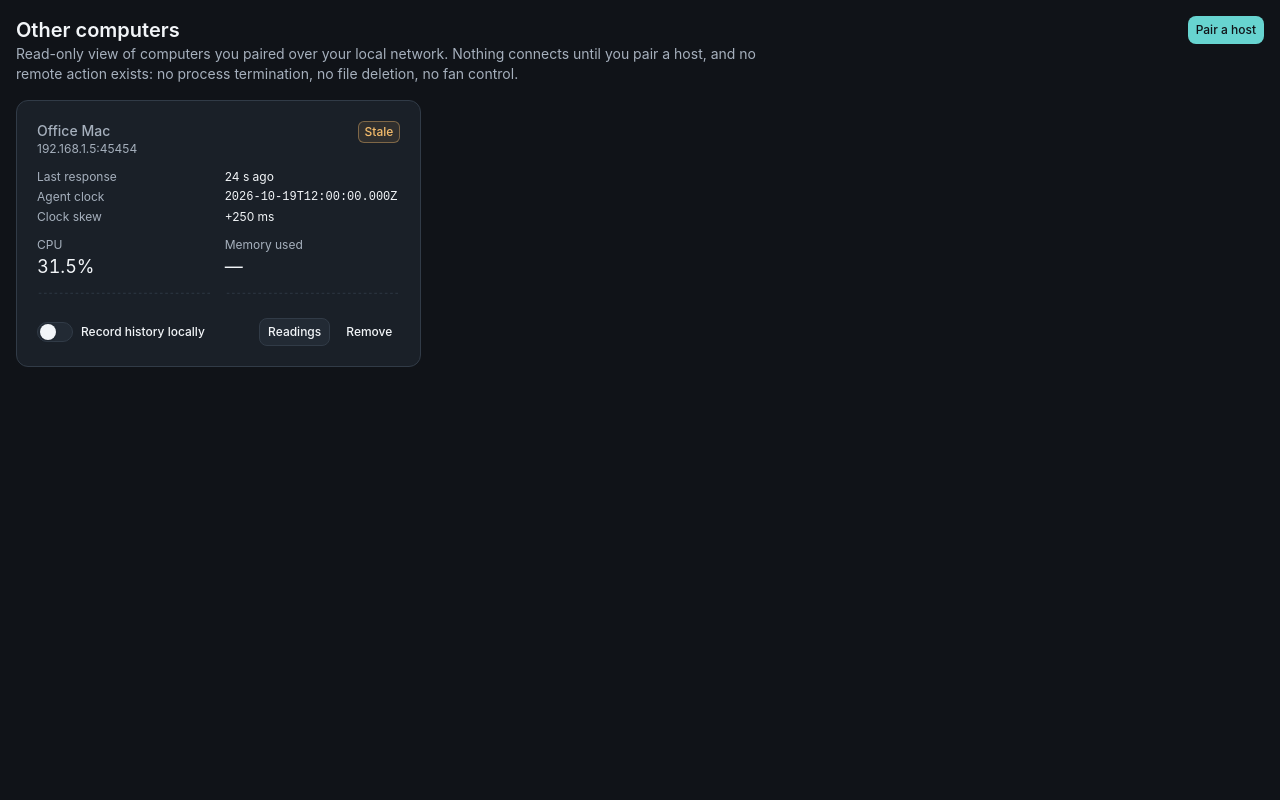
Test: HostsPage › stale detail view carries the explicit warning, not a live claim
Click the button "Readings": (295, 332) [259, 318, 330, 346]
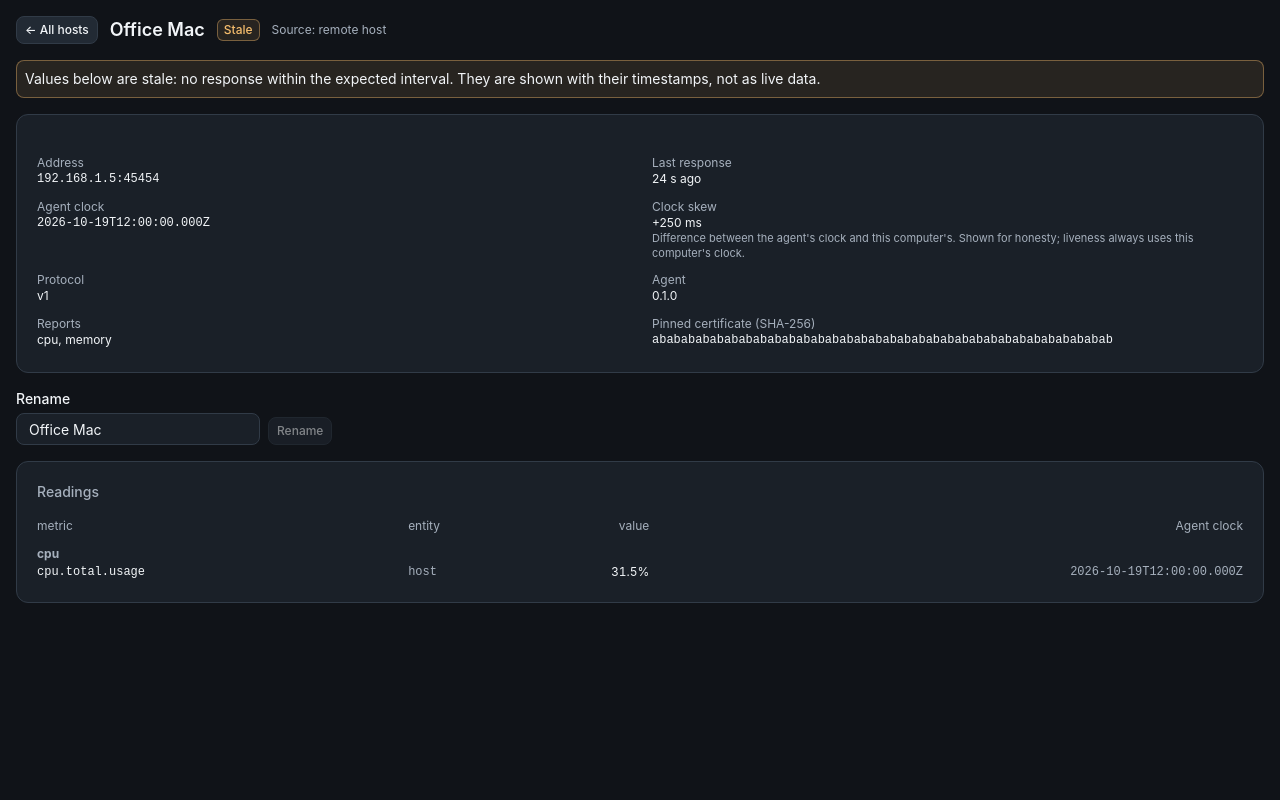
Expected: the element with test id "host-detail" shows "Values below are stale", [25, 70, 820, 87]
